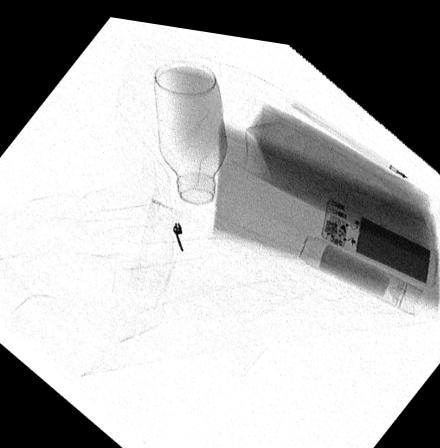Powerbank: (319, 187, 438, 274)
